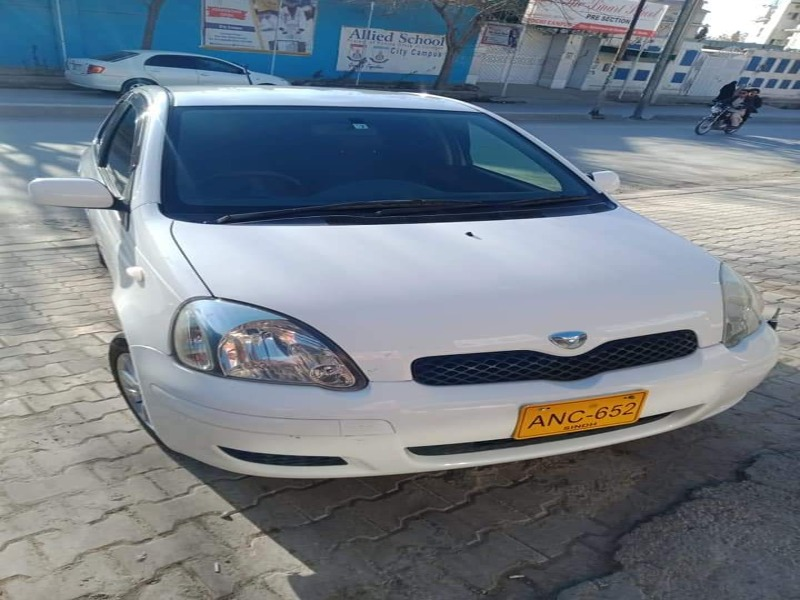License Plate: (509, 388, 649, 441)
